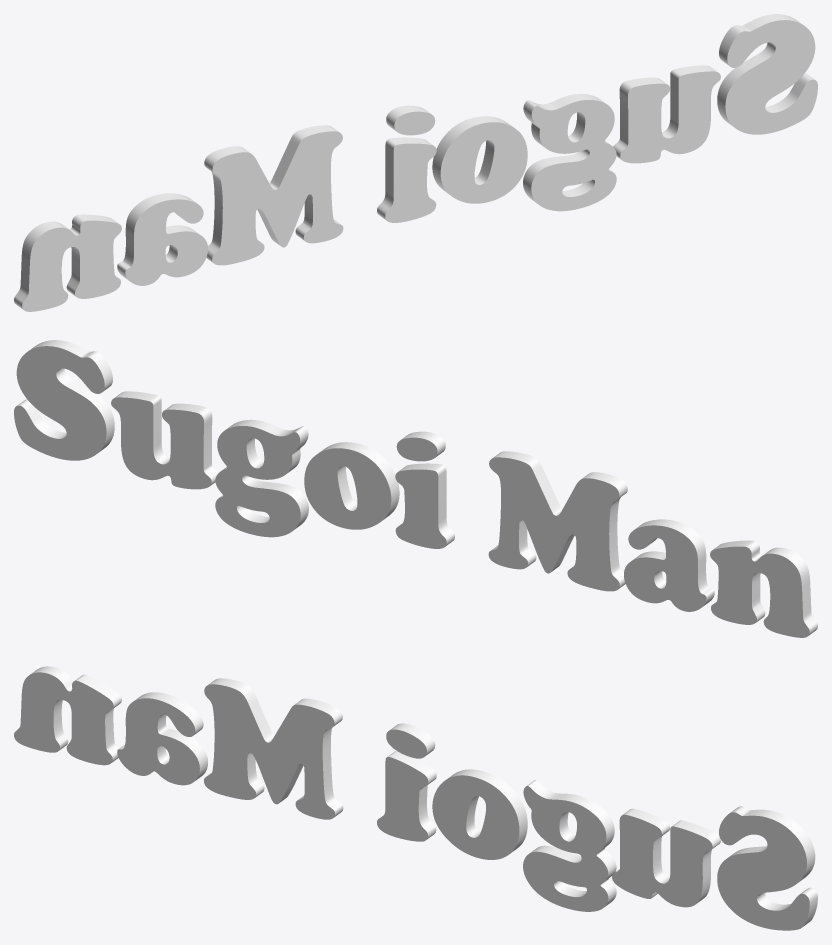
File: Title.obj
3 views of the same model, one above another, from view 1: azimuth 30°, elevation 25°; view 2: azimuth 150°, elevation 25°; view 3: azimuth 330°, elevation 25° (orthographic).
Parts seen in each view (by area): view 1: 文本.001; view 2: 文本.001; view 3: 文本.001.
Boxes of the visible parts, x1,y1,x2,y2 form: 文本.001: (14, 14, 817, 311); 文本.001: (14, 340, 817, 637); 文本.001: (14, 666, 817, 930).
Bounding box in the file's own units: 4.45 × 0.7469 × 0.08.
Materials: 1 (1 with a texture image).
